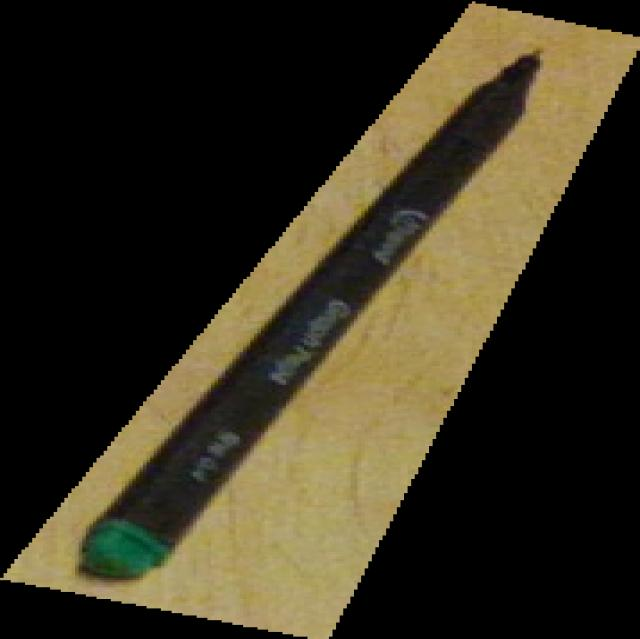green: (0, 0, 640, 639)
